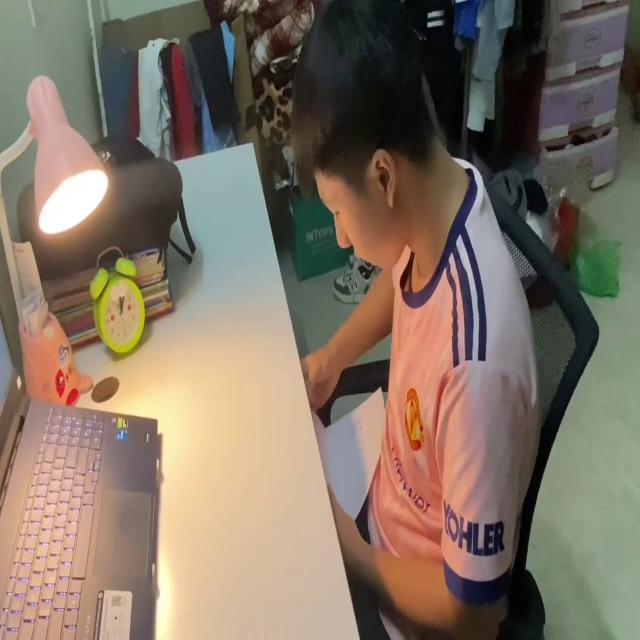book: (304, 387, 392, 516)
laptop: (1, 306, 162, 640)
student: (289, 8, 535, 640)
